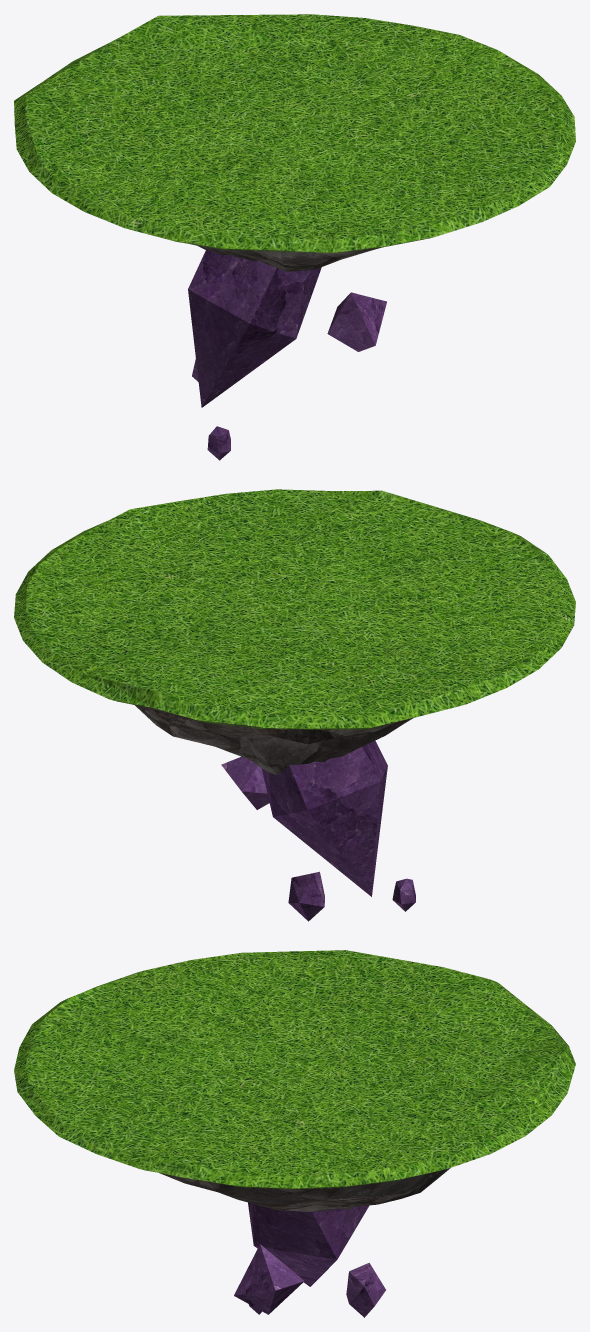
The model's file is floatingisland.obj.
3 views of the same model, one above another, from view 1: azimuth 30°, elevation 25°; view 2: azimuth 150°, elevation 25°; view 3: azimuth 270°, elevation 25° (orthographic).
Parts seen in each view (by area): view 1: Cylinder; view 2: Cylinder; view 3: Cylinder.
Part boxes in pixels (<box>): Cylinder: <box>14,14,575,460</box>; Cylinder: <box>14,489,575,921</box>; Cylinder: <box>14,950,575,1317</box>.
Size of the model in its own units: 66.25 by 40.22 by 66.62.
